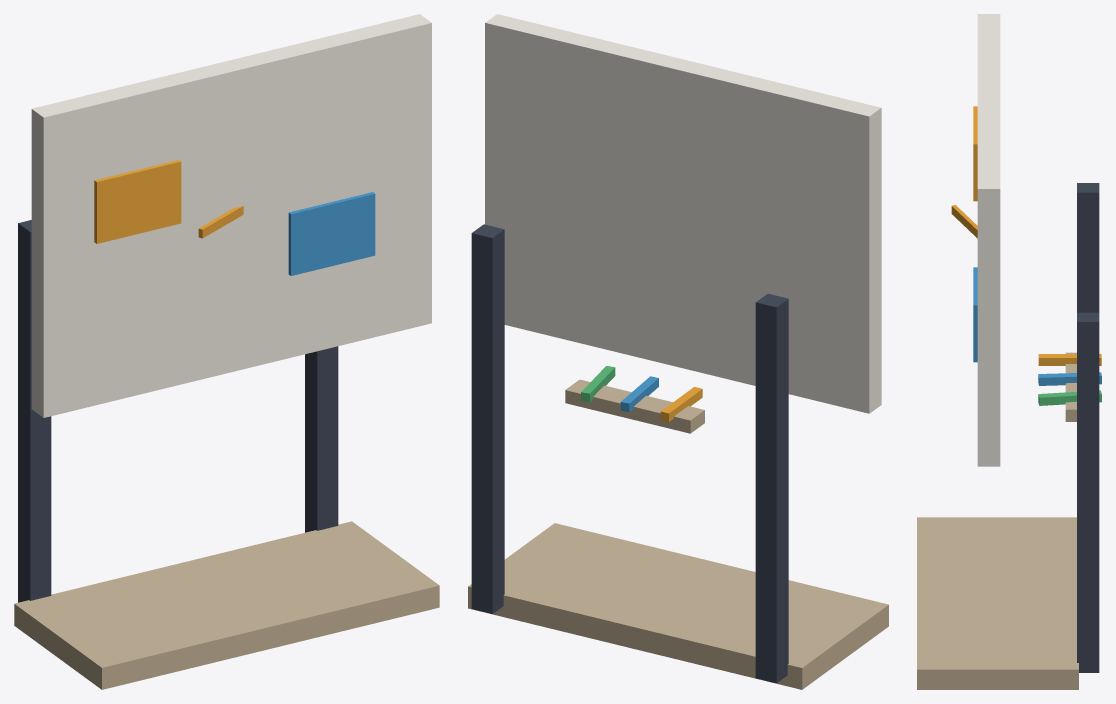
The model's file is station_intake_3.glb.
3 renders of one model, left to right at view 1: azimuth 30°, elevation 25°; view 2: azimuth 150°, elevation 25°; view 3: azimuth 270°, elevation 25°, orthographic. The views are drawn at different scales.
Parts seen in each view (by area): view 1: board, staender_fuss, staender_bein, staender_bein.001, struktur_kasten_b, struktur_kasten_a; view 2: board, staender_fuss, staender_bein, staender_bein.001, ablage, stift_0; view 3: staender_fuss, board, staender_bein.001, staender_bein, stift_1, stift_2, ablage, stift_0, struktur_kasten_a, struktur_kasten_b, struktur_linie.
Boxes of the visible parts, x1,y1,x2,y2 form: board: [31, 14, 431, 417]; staender_fuss: [14, 521, 439, 689]; staender_bein: [18, 220, 51, 602]; staender_bein.001: [305, 346, 338, 532]; struktur_kasten_b: [288, 192, 375, 275]; struktur_kasten_a: [94, 160, 181, 243]; board: [485, 14, 881, 413]; staender_fuss: [468, 523, 888, 689]; staender_bein: [755, 293, 788, 683]; staender_bein.001: [471, 224, 504, 613]; ablage: [565, 379, 704, 433]; stift_0: [660, 387, 702, 421]; staender_fuss: [917, 517, 1078, 689]; board: [977, 14, 1000, 466]; staender_bein.001: [1077, 312, 1099, 672]; staender_bein: [1077, 183, 1099, 312]; stift_1: [1038, 372, 1101, 385]; stift_2: [1038, 390, 1101, 405]; ablage: [1065, 352, 1076, 421]; stift_0: [1038, 354, 1101, 365]; struktur_kasten_a: [973, 106, 977, 201]; struktur_kasten_b: [973, 267, 977, 362]; struktur_linie: [951, 205, 977, 238].
Bounding box in the file's own units: 0.92 × 1.26 × 0.4107.
